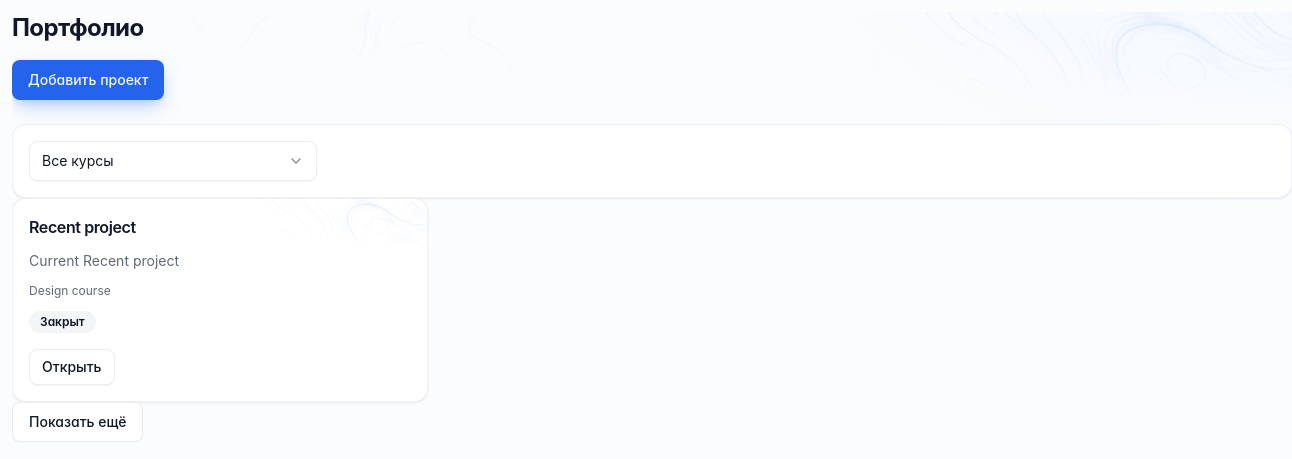
it: loads older projects from the resource cursor while retaining the recent project cards
The image size is (1292, 459).
Check: the text "Recent project" is shown, box [29,217,136,237]
Step 1. Click the button "Показать ещё" → point(78, 422), box [12,402,144,442]
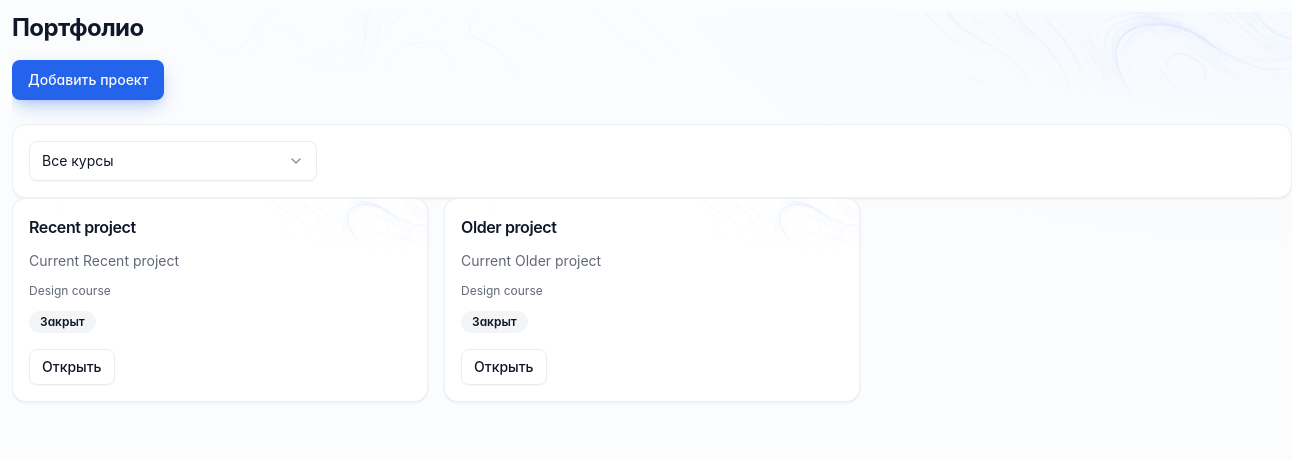
Check: the text "Recent project" is shown, box [29,217,136,237]
Check: the text "Older project" is shown, box [461,217,556,237]
